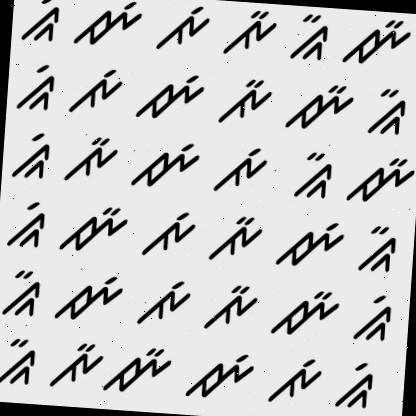an: (218, 3, 285, 64), (58, 129, 123, 189), (207, 209, 268, 269), (200, 278, 262, 336), (46, 338, 104, 400), (215, 74, 276, 128)
ang: (261, 350, 325, 412), (153, 0, 215, 60), (134, 274, 196, 333), (137, 207, 199, 264), (212, 140, 272, 197), (67, 64, 125, 118)
nggan: (0, 259, 47, 323), (288, 10, 334, 74), (361, 82, 408, 144), (288, 149, 340, 204), (0, 332, 41, 392), (356, 224, 402, 276)
nggang: (330, 358, 384, 413), (6, 127, 56, 184), (12, 58, 59, 117), (350, 287, 396, 346), (1, 196, 48, 253), (15, 0, 65, 51)
njan: (338, 9, 416, 79), (57, 200, 132, 258), (344, 149, 416, 209), (266, 286, 343, 342), (285, 76, 356, 136), (102, 341, 172, 398)
njang: (128, 135, 202, 202), (184, 345, 256, 408), (270, 214, 348, 272), (54, 269, 126, 330), (70, 0, 145, 57), (134, 69, 206, 126)
